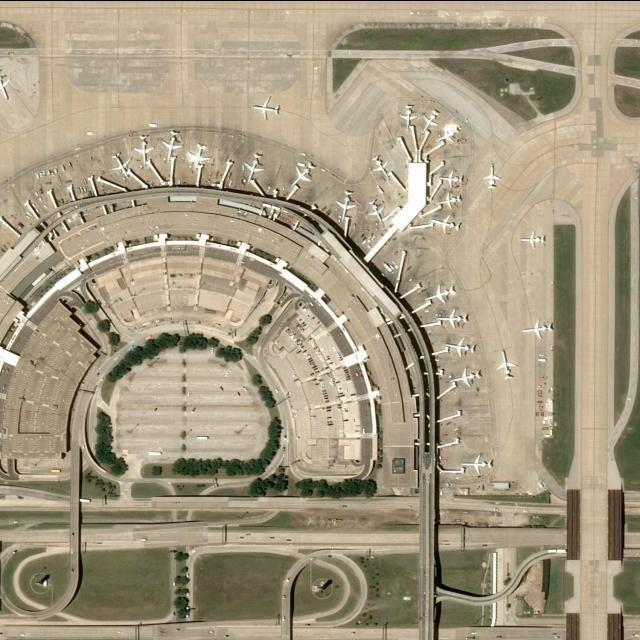Aircraft: (495, 346, 519, 378), (466, 451, 498, 475), (252, 94, 286, 116), (431, 279, 459, 305), (442, 304, 472, 328), (133, 132, 155, 164), (449, 333, 478, 357), (109, 151, 137, 175), (245, 151, 267, 181), (400, 96, 419, 130), (162, 128, 184, 156), (190, 139, 211, 167), (430, 214, 462, 232), (372, 151, 392, 179), (456, 366, 484, 385), (519, 227, 545, 247), (421, 106, 441, 132), (368, 194, 386, 222), (1, 67, 15, 102), (440, 167, 464, 187), (338, 188, 358, 212), (483, 163, 501, 189), (435, 191, 461, 209), (526, 321, 552, 337)
